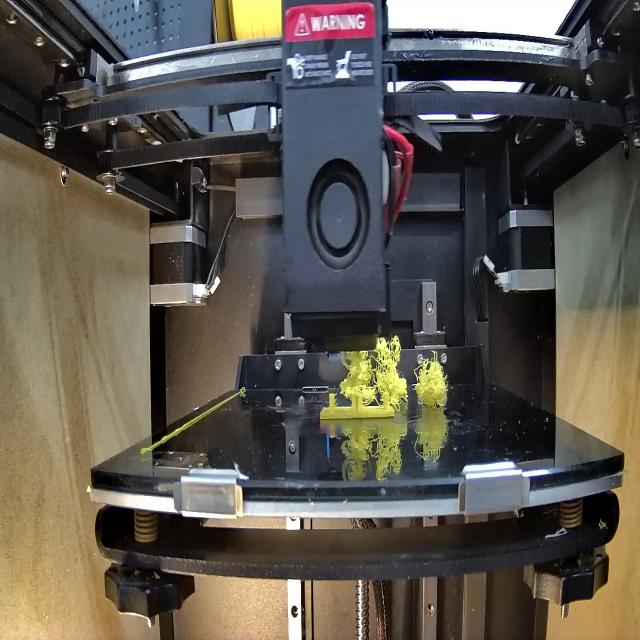spaghetti: (339, 336, 407, 405), (410, 349, 453, 409)
